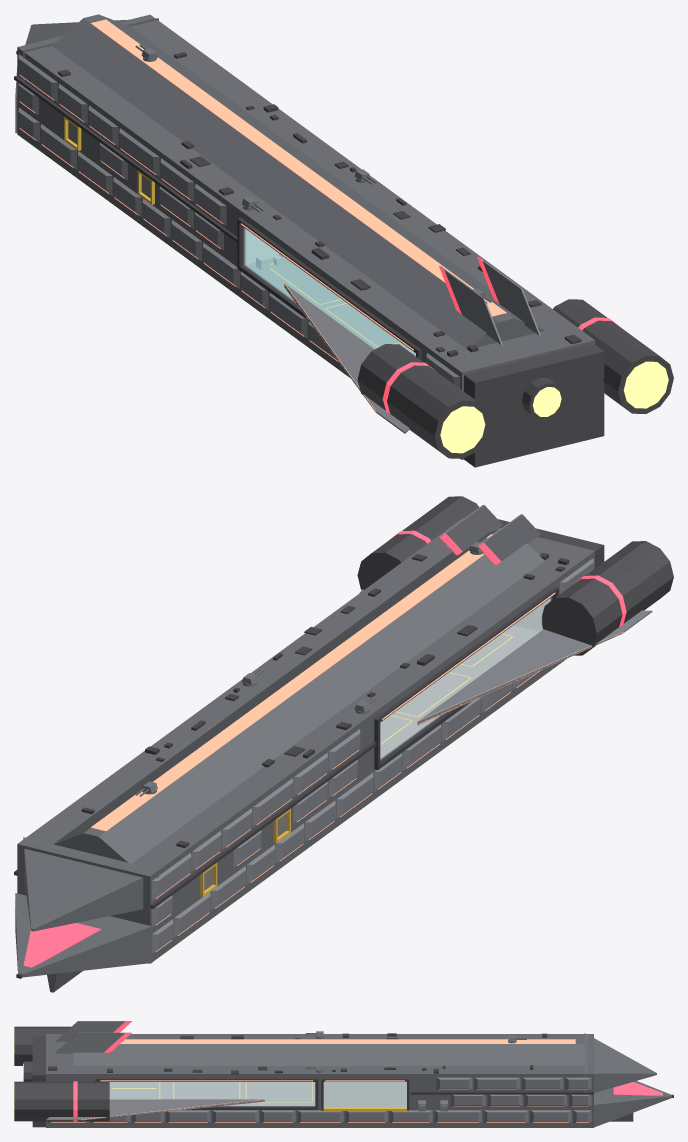
Rendered from ship_MEDIUM.glb.
The picture shows the model from 3 angles, top to bottom: view 1: azimuth 30°, elevation 25°; view 2: azimuth 150°, elevation 25°; view 3: azimuth 270°, elevation 25°; orthographic projection. The views are drawn at different scales.
Visible parts, largest first — view 1: MEDIUM_Hull-col, MEDIUM_Engines, MEDIUM_Armor, MEDIUM_Lights, MEDIUM_HangarShield_Port, MEDIUM_EngineGlow, MEDIUM_Trim, MEDIUM_Decks-col, MEDIUM_Details, MEDIUM_Accent, MEDIUM_Hazard; view 2: MEDIUM_Hull-col, MEDIUM_Armor, MEDIUM_Engines, MEDIUM_Lights, MEDIUM_HangarShield_Port, MEDIUM_Decks-col, MEDIUM_Trim, MEDIUM_Accent, MEDIUM_Details, MEDIUM_Hazard; view 3: MEDIUM_Hull-col, MEDIUM_Armor, MEDIUM_Engines, MEDIUM_HangarShield_Starboard, MEDIUM_Decks-col, MEDIUM_Lights, MEDIUM_Trim, MEDIUM_CargoBayShield, MEDIUM_CargoBayDoor-col, MEDIUM_Accent, MEDIUM_Details, MEDIUM_Hazard.
Boxes of the visible parts, x1=… form: MEDIUM_Hull-col: x1=15, y1=14, x2=594, y2=459; MEDIUM_Engines: x1=16, y1=51, x2=673, y2=467; MEDIUM_Armor: x1=18, y1=54, x2=540, y2=433; MEDIUM_Lights: x1=19, y1=19, x2=506, y2=412; MEDIUM_HangarShield_Port: x1=244, y1=228, x2=415, y2=355; MEDIUM_EngineGlow: x1=440, y1=361, x2=668, y2=453; MEDIUM_Trim: x1=14, y1=76, x2=421, y2=360; MEDIUM_Decks-col: x1=247, y1=258, x2=415, y2=355; MEDIUM_Details: x1=58, y1=52, x2=581, y2=356; MEDIUM_Accent: x1=382, y1=256, x2=620, y2=413; MEDIUM_Hazard: x1=64, y1=116, x2=411, y2=351; MEDIUM_Hull-col: x1=15, y1=518, x2=594, y2=992; MEDIUM_Armor: x1=152, y1=504, x2=652, y2=953; MEDIUM_Engines: x1=16, y1=496, x2=673, y2=978; MEDIUM_Lights: x1=91, y1=534, x2=623, y2=951; MEDIUM_HangarShield_Port: x1=380, y1=598, x2=550, y2=758; MEDIUM_Decks-col: x1=380, y1=625, x2=539, y2=757; MEDIUM_Trim: x1=14, y1=587, x2=558, y2=908; MEDIUM_Accent: x1=23, y1=530, x2=626, y2=967; MEDIUM_Details: x1=81, y1=552, x2=569, y2=847; MEDIUM_Hazard: x1=200, y1=633, x2=512, y2=896; MEDIUM_Hull-col: x1=46, y1=1033, x2=671, y2=1127; MEDIUM_Armor: x1=46, y1=1021, x2=591, y2=1122; MEDIUM_Engines: x1=14, y1=1026, x2=673, y2=1127; MEDIUM_HangarShield_Starboard: x1=109, y1=1082, x2=315, y2=1105; MEDIUM_Decks-col: x1=109, y1=1082, x2=315, y2=1105; MEDIUM_Lights: x1=51, y1=1039, x2=588, y2=1122; MEDIUM_Trim: x1=95, y1=1078, x2=593, y2=1110; MEDIUM_CargoBayShield: x1=323, y1=1081, x2=406, y2=1107; MEDIUM_CargoBayDoor-col: x1=323, y1=1081, x2=406, y2=1106; MEDIUM_Accent: x1=73, y1=1021, x2=662, y2=1121; MEDIUM_Details: x1=48, y1=1033, x2=547, y2=1074; MEDIUM_Hazard: x1=110, y1=1082, x2=406, y2=1110.
Size of the model in its own units: 38.81 by 22.95 by 146.
